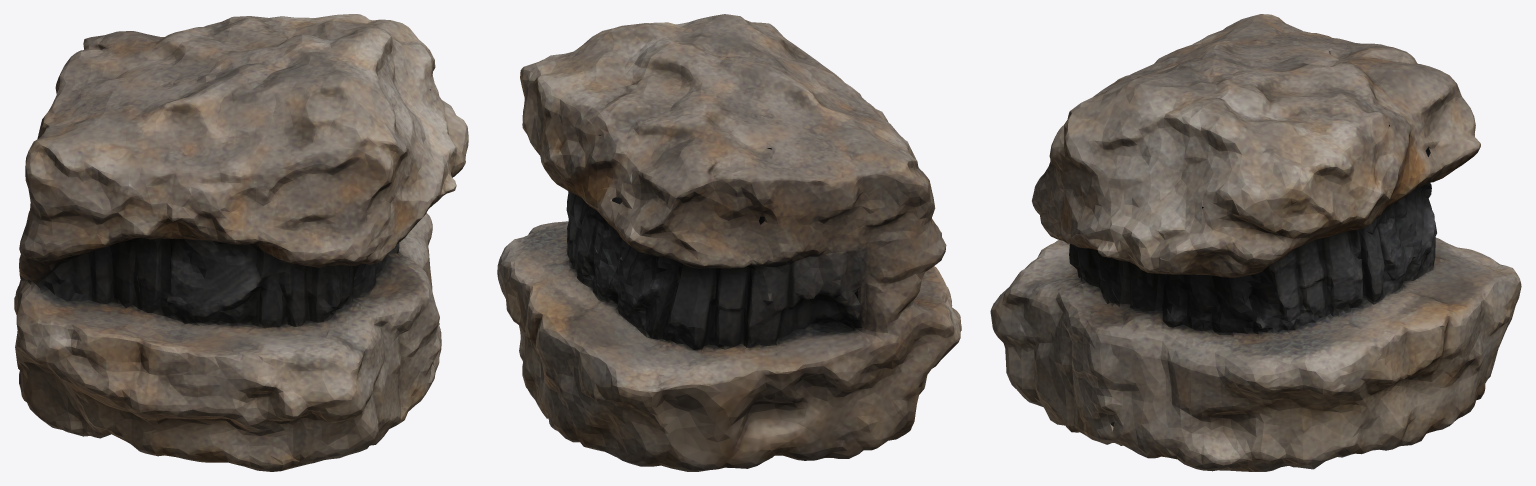
3 views of the same model, side by side, from view 1: azimuth 30°, elevation 25°; view 2: azimuth 150°, elevation 25°; view 3: azimuth 270°, elevation 25° (orthographic). The views are drawn at different scales.
Visible parts, largest first — view 1: world; view 2: world; view 3: world.
Boxes of the visible parts, x1,y1,x2,y2 form: world: (14,14,468,471); world: (497,14,961,471); world: (990,14,1521,471).
Bounding box in the file's own units: 3.45 × 2.72 × 3.64.
1 material, 1 textured.
